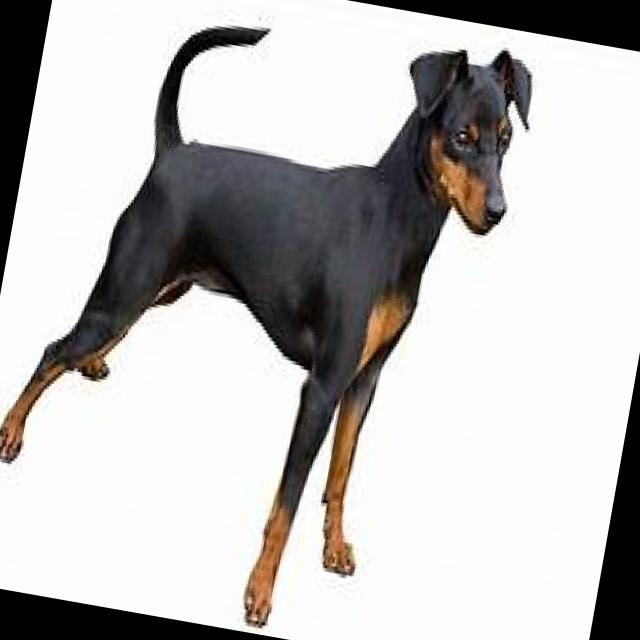dog: (0, 0, 574, 638)
